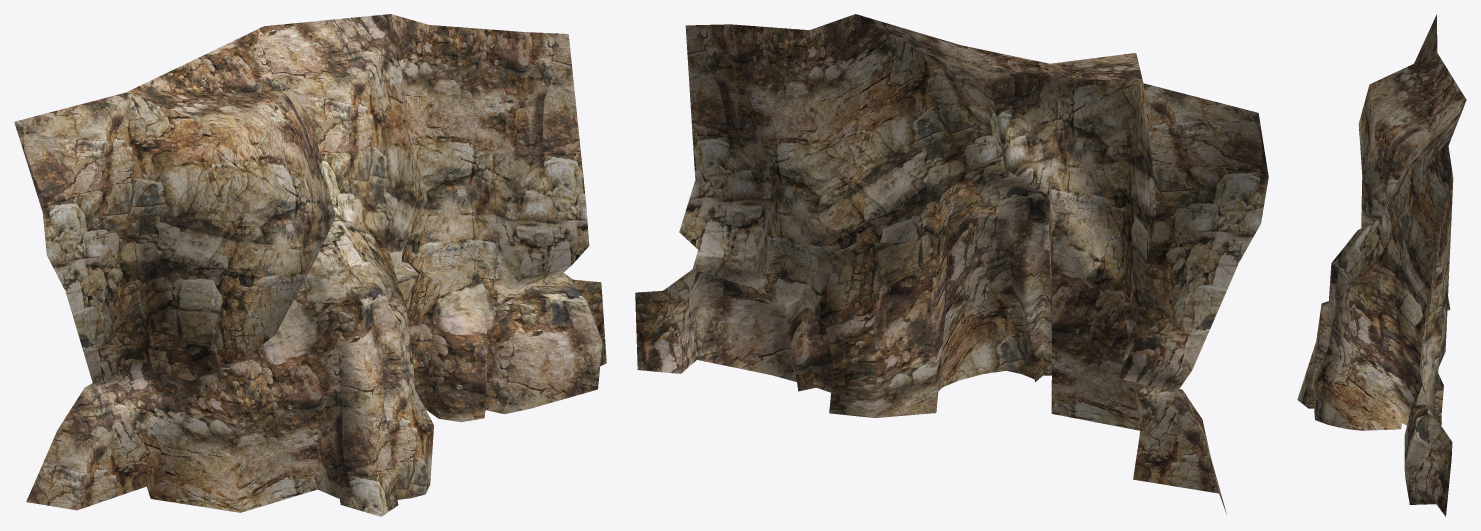
Rendered from ex_DungeonSet_Cliff_01F.fbx.
The picture shows the model from 3 angles, left to right: view 1: azimuth 30°, elevation 25°; view 2: azimuth 150°, elevation 25°; view 3: azimuth 270°, elevation 25°; orthographic projection. The views are drawn at different scales.
Parts seen in each view (by area): view 1: ex_DungeonSet_Cliff_01F; view 2: ex_DungeonSet_Cliff_01F; view 3: ex_DungeonSet_Cliff_01F.
Boxes of the visible parts, x1,y1,x2,y2 form: ex_DungeonSet_Cliff_01F: [14, 14, 606, 516]; ex_DungeonSet_Cliff_01F: [635, 14, 1268, 514]; ex_DungeonSet_Cliff_01F: [1297, 14, 1466, 516].
Bounding box in the file's own units: 975 × 633 × 325.
